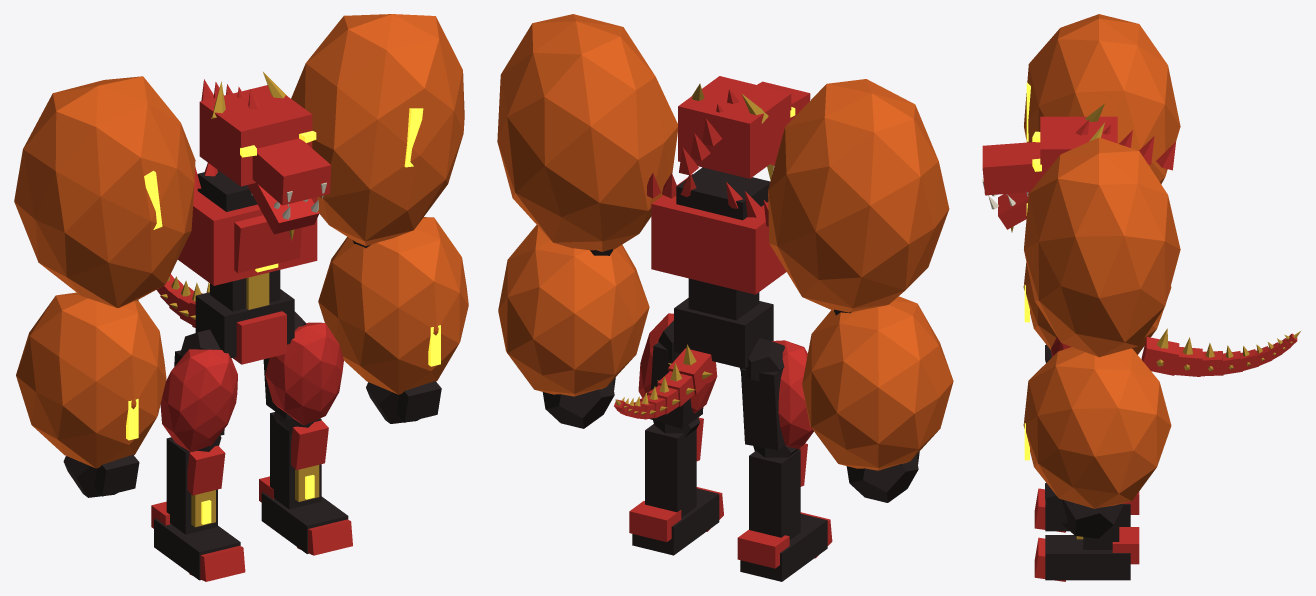
The model's file is beast-hangar-volkrex-v1.glb.
3 views of the same model, side by side, from view 1: azimuth 30°, elevation 25°; view 2: azimuth 150°, elevation 25°; view 3: azimuth 270°, elevation 25° (orthographic). The views are drawn at different scales.
Parts seen in each view (by area): view 1: surface_9, surface_16, arms_1, arms_2, surface_45, surface_25, surface_36, surface_5, surface_46, surface_6, surface_1, surface_31 (+20 smaller); view 2: surface_16, surface_9, arms_1, arms_2, surface_5, surface_45, surface_1, surface_27, surface_38, surface_8, surface_24, surface_25 (+11 smaller); view 3: surface_16, arms_2, surface_9, surface_42, surface_46, surface_45, surface_21, arms_1, surface_84, surface_47, surface_44, surface_88 (+6 smaller).
Part boxes in pixels (x1=…): surface_9: x1=14, y1=76, x2=195, y2=308; surface_16: x1=291, y1=14, x2=464, y2=246; arms_1: x1=16, y1=292, x2=166, y2=468; arms_2: x1=318, y1=217, x2=468, y2=394; surface_45: x1=199, y1=85, x2=312, y2=186; surface_25: x1=160, y1=349, x2=237, y2=451; surface_36: x1=265, y1=322, x2=343, y2=425; surface_5: x1=178, y1=188, x2=317, y2=285; surface_46: x1=252, y1=138, x2=331, y2=205; surface_6: x1=234, y1=215, x2=301, y2=273; surface_1: x1=195, y1=289, x2=294, y2=358; surface_31: x1=154, y1=518, x2=240, y2=580; surface_16: x1=497, y1=14, x2=677, y2=251; surface_9: x1=768, y1=79, x2=949, y2=312; arms_1: x1=802, y1=296, x2=953, y2=470; arms_2: x1=498, y1=225, x2=649, y2=396; surface_5: x1=651, y1=174, x2=786, y2=294; surface_45: x1=678, y1=76, x2=791, y2=178; surface_1: x1=674, y1=298, x2=773, y2=368; surface_27: x1=749, y1=449, x2=800, y2=539; surface_38: x1=645, y1=424, x2=696, y2=517; surface_8: x1=676, y1=167, x2=770, y2=220; surface_24: x1=740, y1=368, x2=784, y2=450; surface_25: x1=772, y1=340, x2=813, y2=449; surface_16: x1=1024, y1=137, x2=1180, y2=357; arms_2: x1=1023, y1=347, x2=1171, y2=508; surface_9: x1=1024, y1=14, x2=1180, y2=184; surface_42: x1=1045, y1=535, x2=1130, y2=580; surface_46: x1=982, y1=142, x2=1040, y2=195; surface_45: x1=1040, y1=116, x2=1117, y2=178; surface_21: x1=1061, y1=499, x2=1122, y2=538; arms_1: x1=1023, y1=262, x2=1171, y2=354; surface_84: x1=1141, y1=337, x2=1179, y2=375; surface_47: x1=998, y1=192, x2=1029, y2=229; surface_44: x1=1112, y1=527, x2=1139, y2=564; surface_88: x1=1174, y1=347, x2=1202, y2=376.
Bounding box in the file's own units: 10.41 × 11.39 × 7.12.
